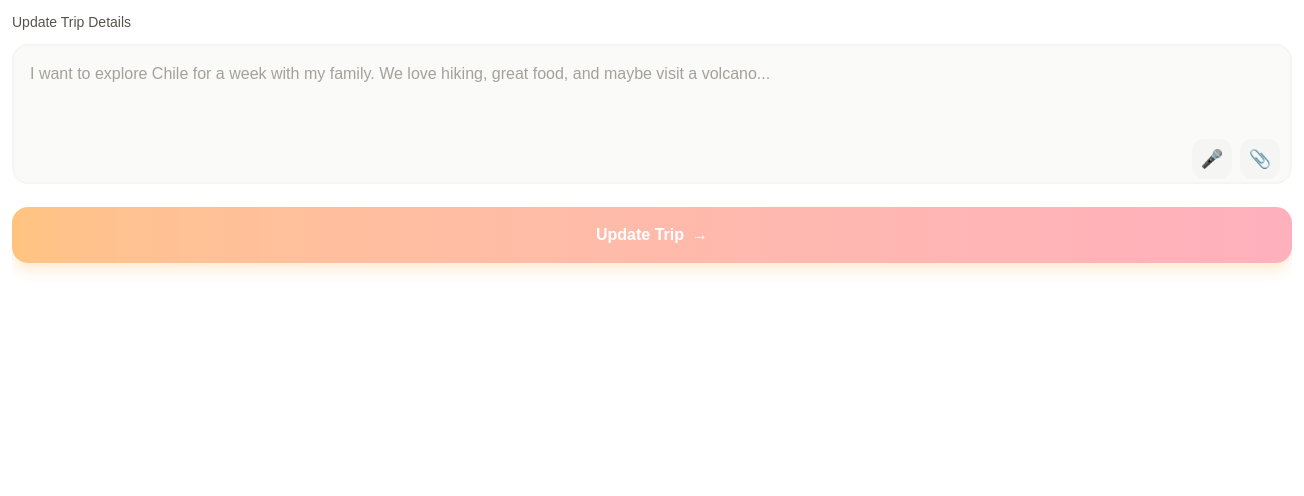
Test: MessageBasedTripCreator › Update Mode › should show "Trip Updated!" message in update mode
In the text box labelled "Update Trip Details": (652, 114) [12, 44, 1292, 184], type "Update details"
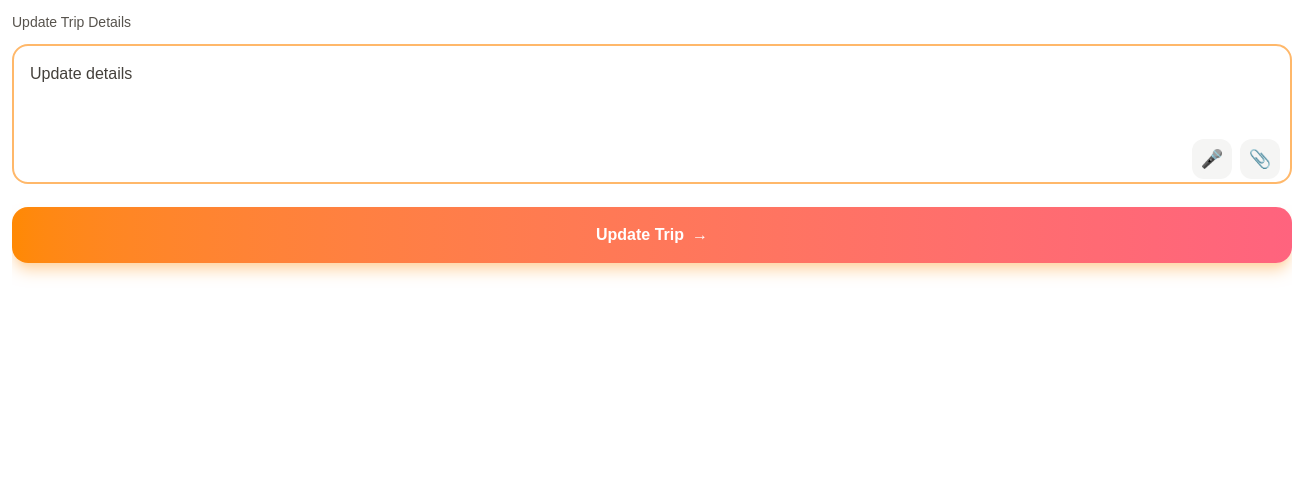
Click the button "Update Trip →": (652, 235) [12, 207, 1292, 263]
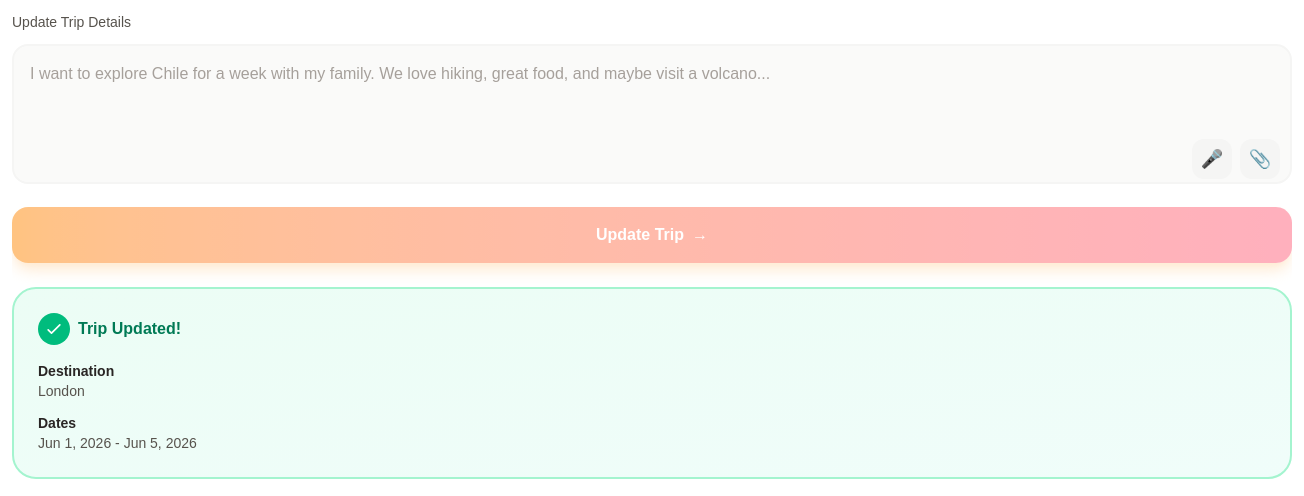
Result: the text "Trip Updated!" is shown at [38, 313, 181, 345]
